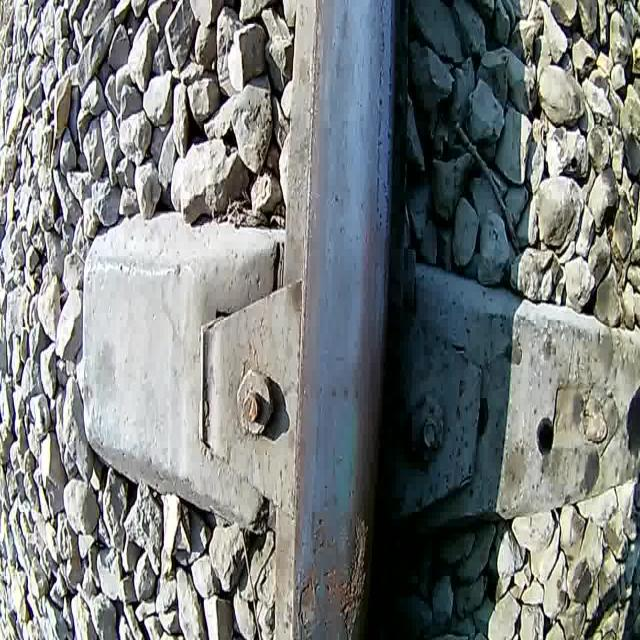Spallings: (290, 499, 373, 640)
